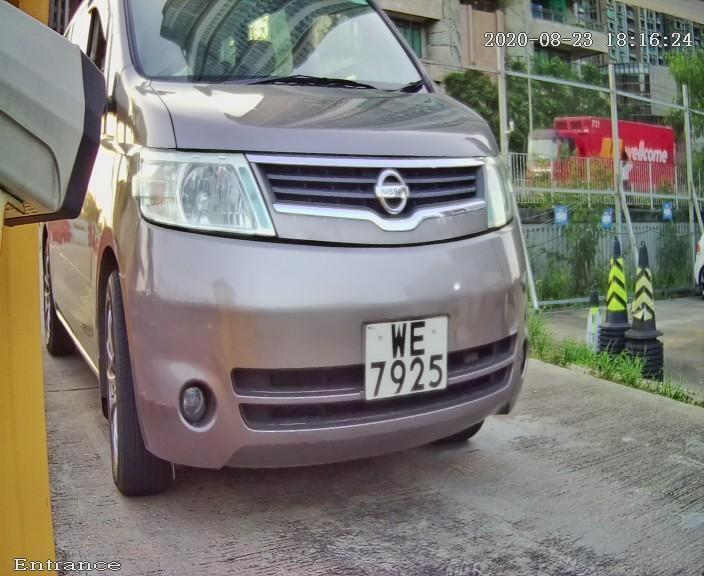Car: (32, 8, 588, 510)
License Plate: (335, 294, 472, 425)
